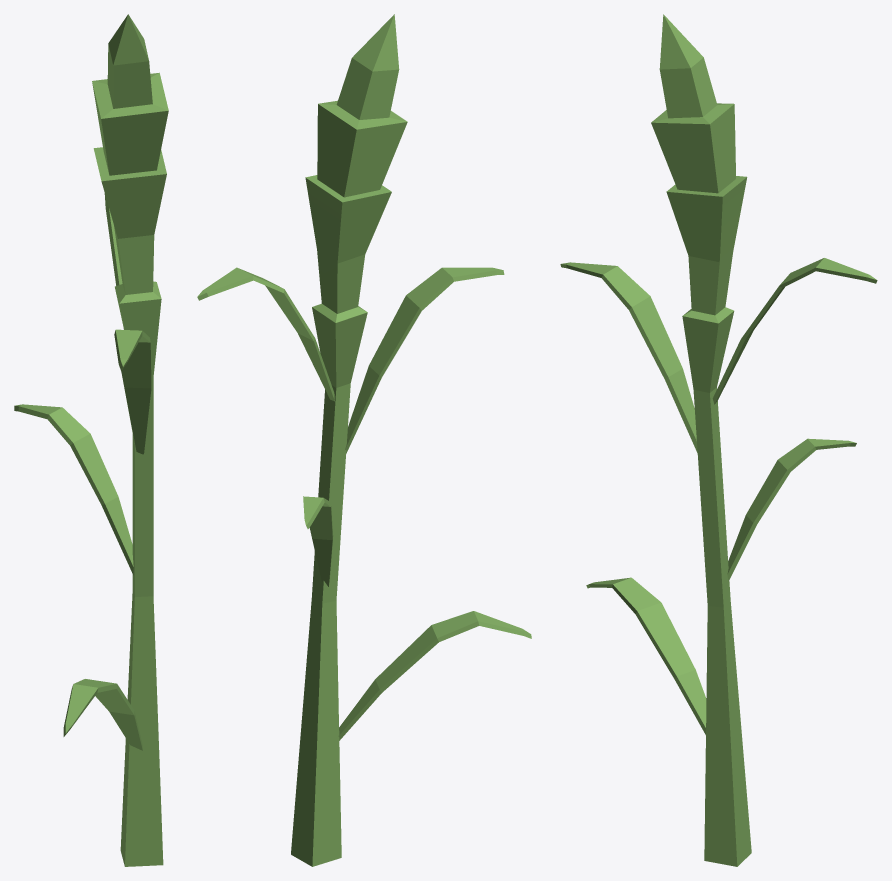
File: wheat_3.glb
3 views of the same model, side by side, from view 1: azimuth 30°, elevation 25°; view 2: azimuth 150°, elevation 25°; view 3: azimuth 270°, elevation 25° (orthographic). The views are drawn at different scales.
Visible parts, largest first — view 1: Wheat_3; view 2: Wheat_3; view 3: Wheat_3.
Part boxes in pixels (left/top/right/bottom): Wheat_3: left=14, top=14, right=168, bottom=866; Wheat_3: left=197, top=14, right=531, bottom=866; Wheat_3: left=560, top=14, right=877, bottom=866.
Size of the model in its own units: 0.1648 by 0.6943 by 0.2431.
